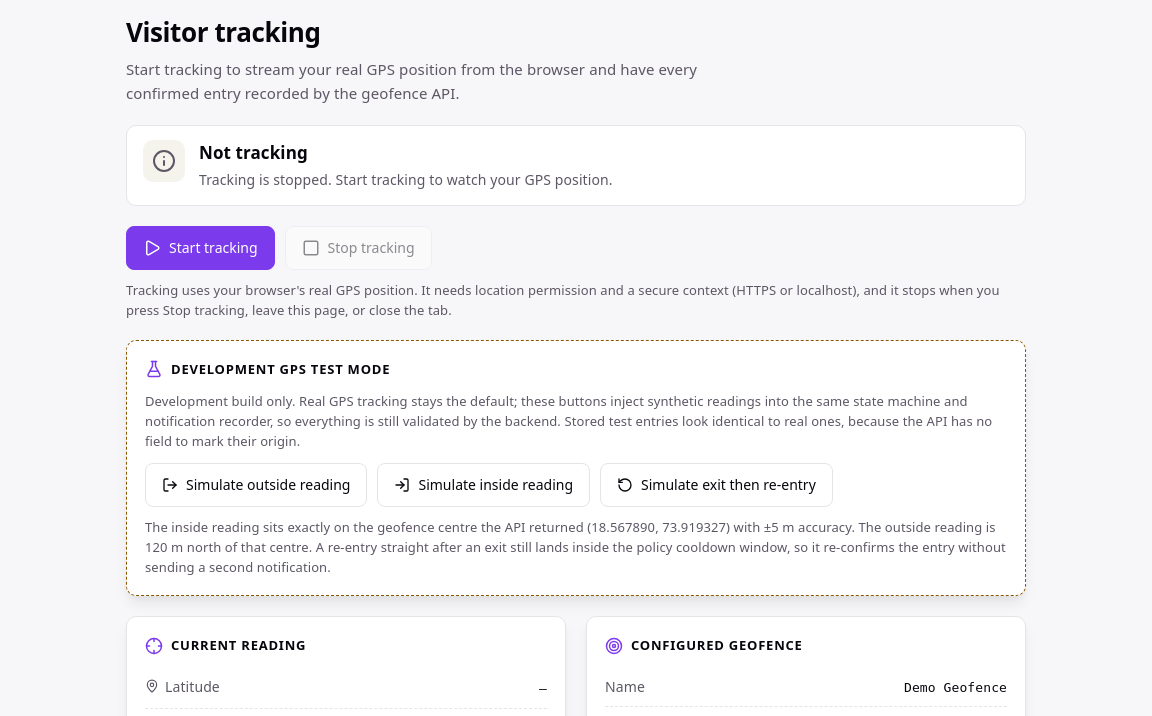
Test: VisitorTrackingPage › never notifies from an uncertain reading while inside
Click the button "Start tracking".
click(200, 248)  # box [126,226,275,270]
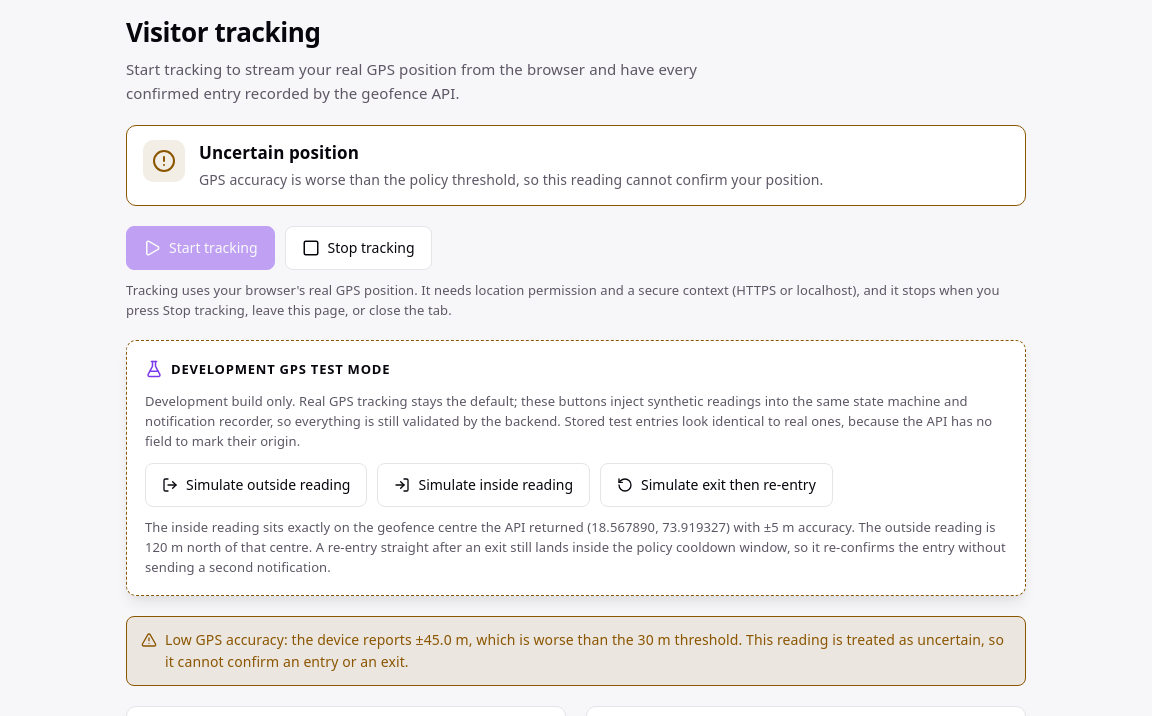
Now the text "Uncertain position" is shown, box [199,141,359,164]
Now the text "Low GPS accuracy" is shown, box [165,630,424,650]
